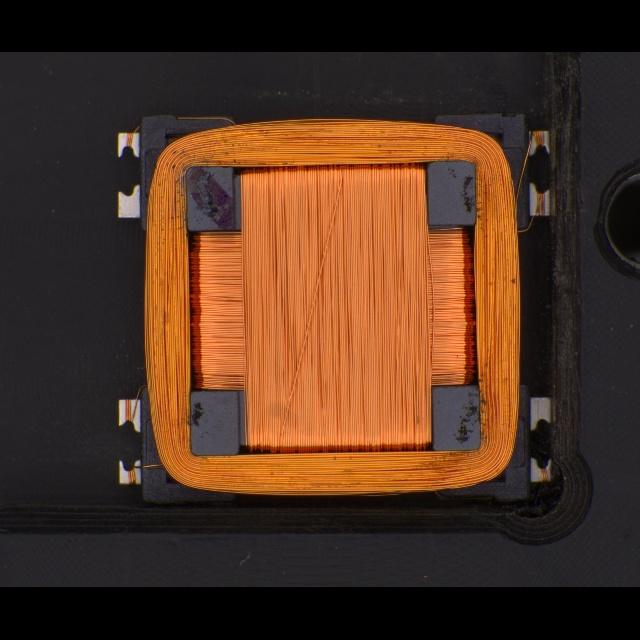Winding_Z: (136, 114, 524, 499)
